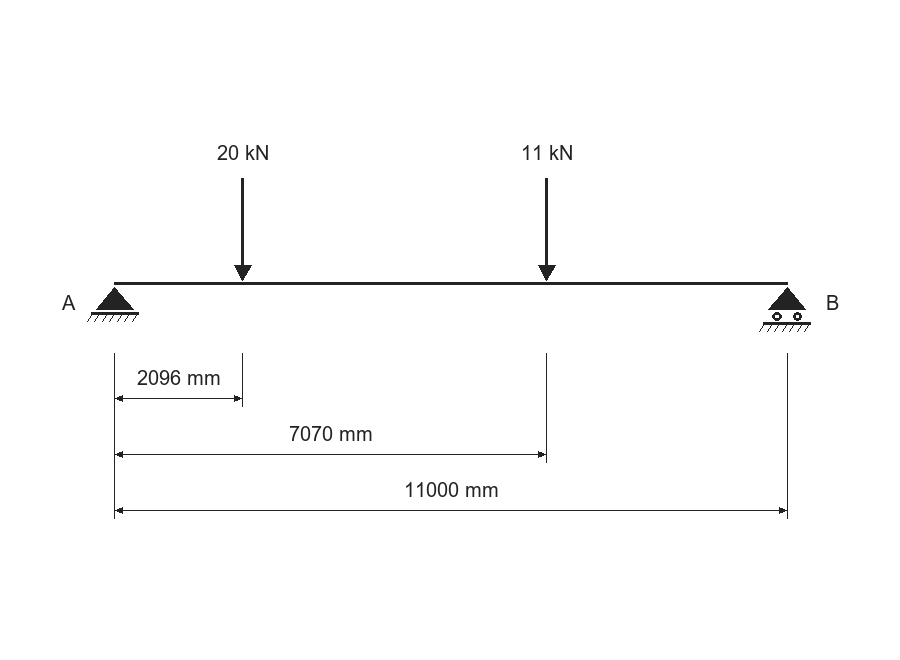pin_support: (87, 287, 139, 322)
point_load: (234, 178, 252, 281), (538, 178, 556, 281)
roller_support: (759, 287, 811, 332)
